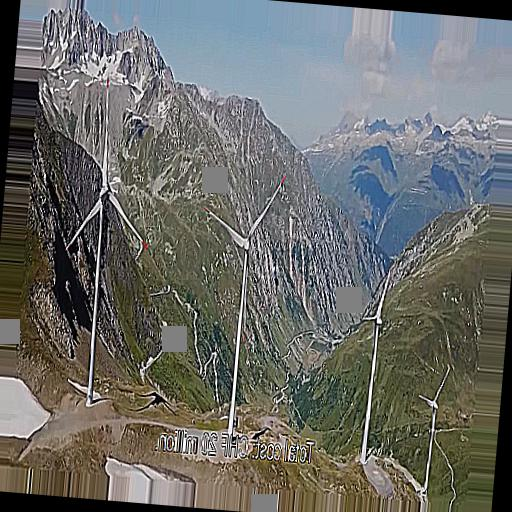wind turbine: (66, 73, 151, 407), (202, 174, 288, 440), (354, 265, 393, 461), (414, 366, 451, 491)
